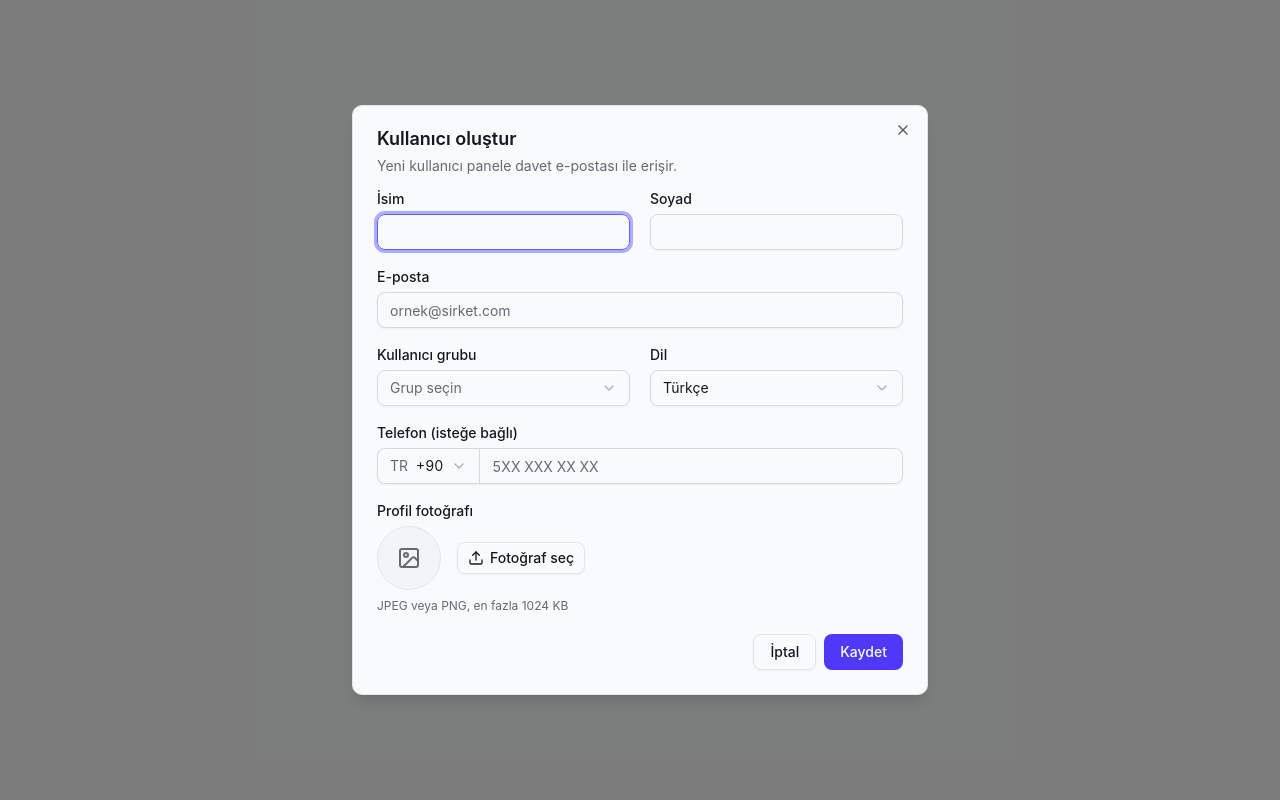
Test: CreateUserDialog › points at the email when it is already in use
The width and height of the screenshot is (1280, 800).
Type "Ada" into the field labelled "İsim" at point(504, 232), box [377,214,630,250]
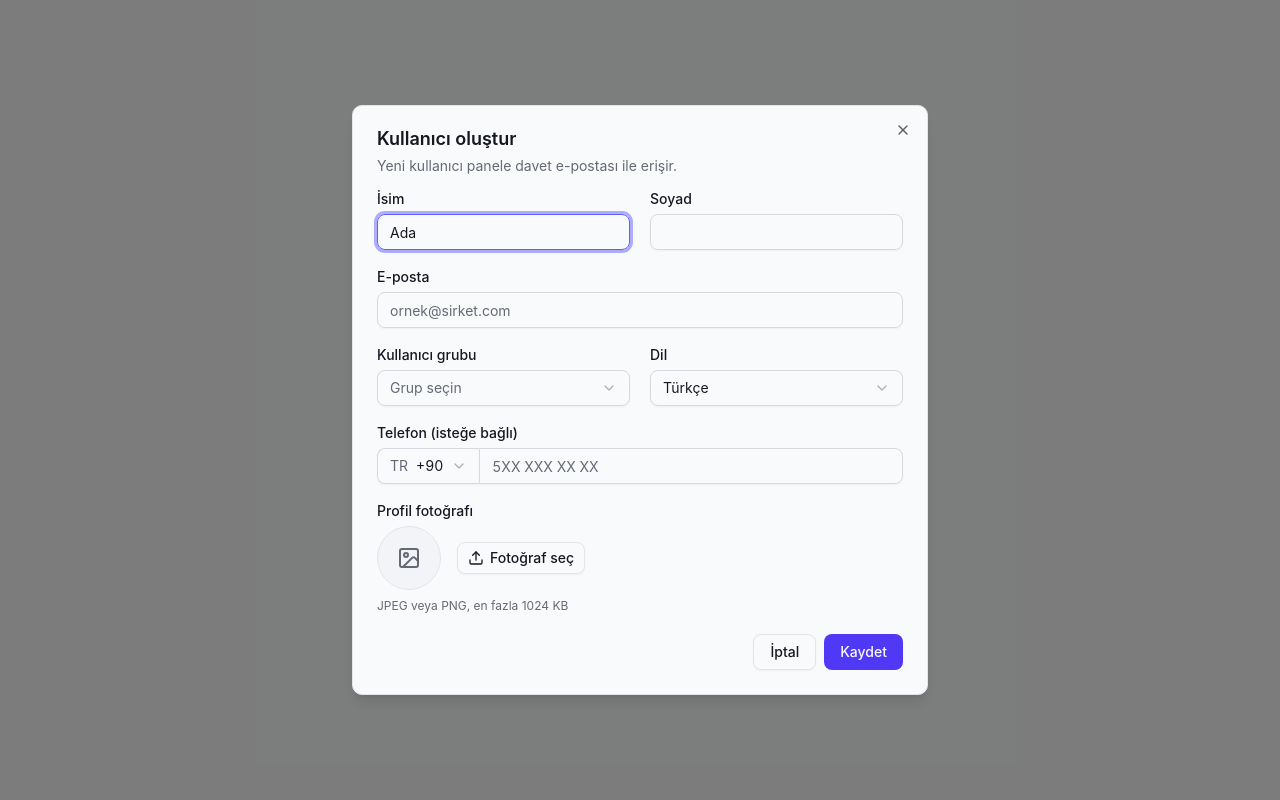
Type "Lovelace" into the field labelled "Soyad" at point(776, 232), box [650,214,903,250]
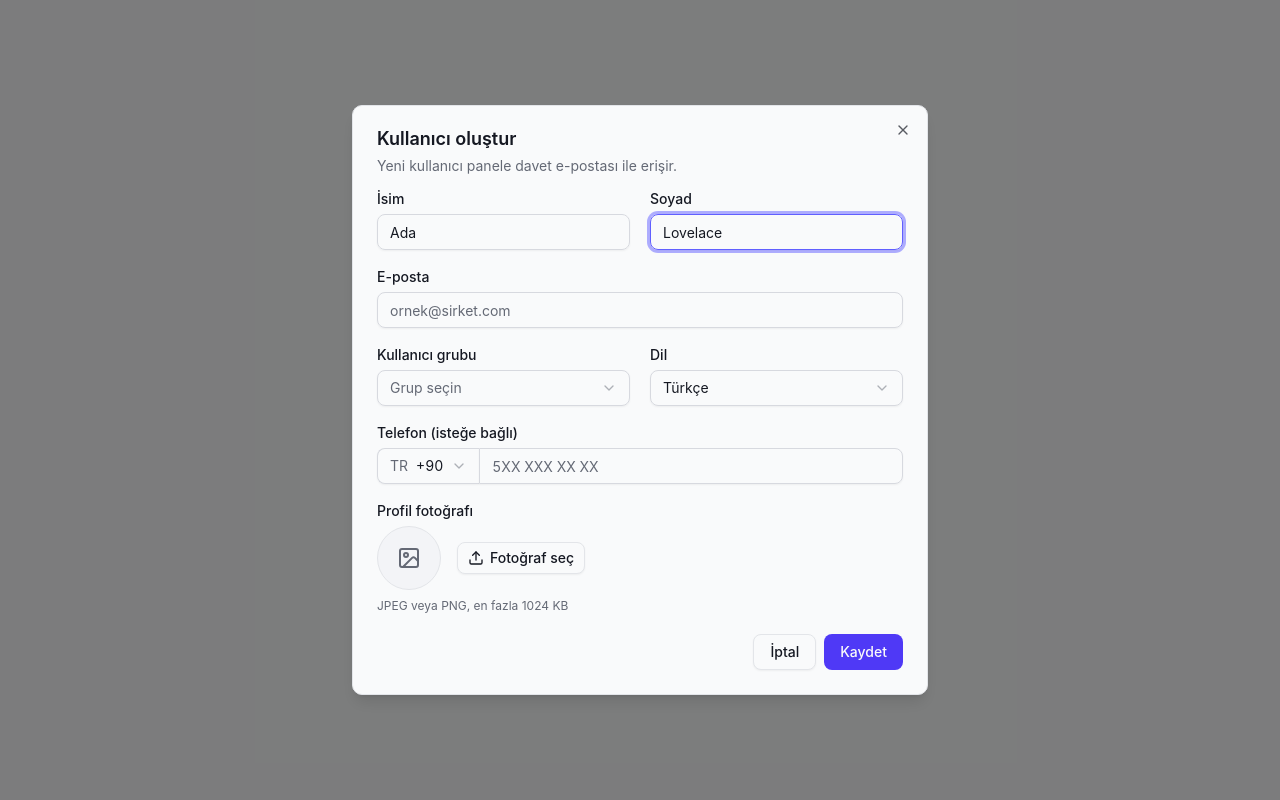
Type "ada@example.com" into the field labelled "E-posta" at point(640, 310), box [377,292,903,328]
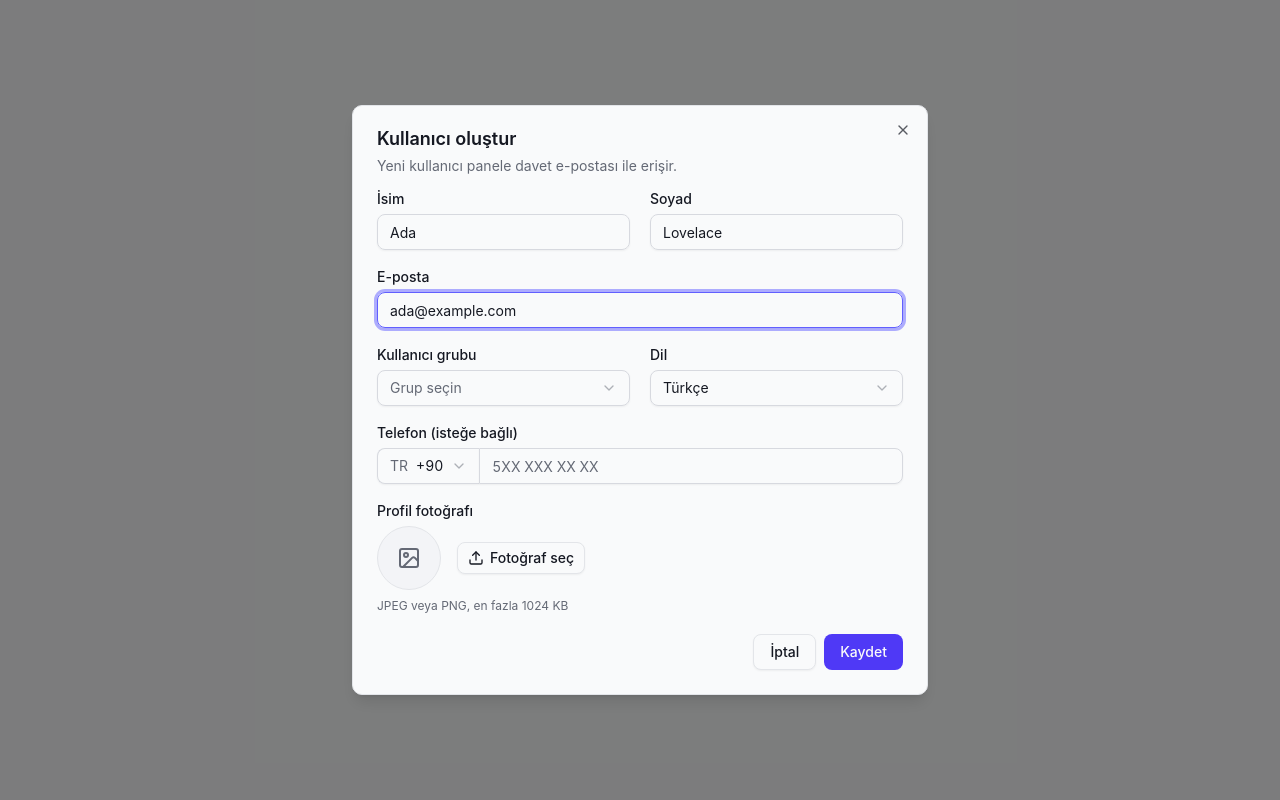
Click the dropdown named "Kullanıcı grubu" at point(504, 388), box [377,370,630,406]
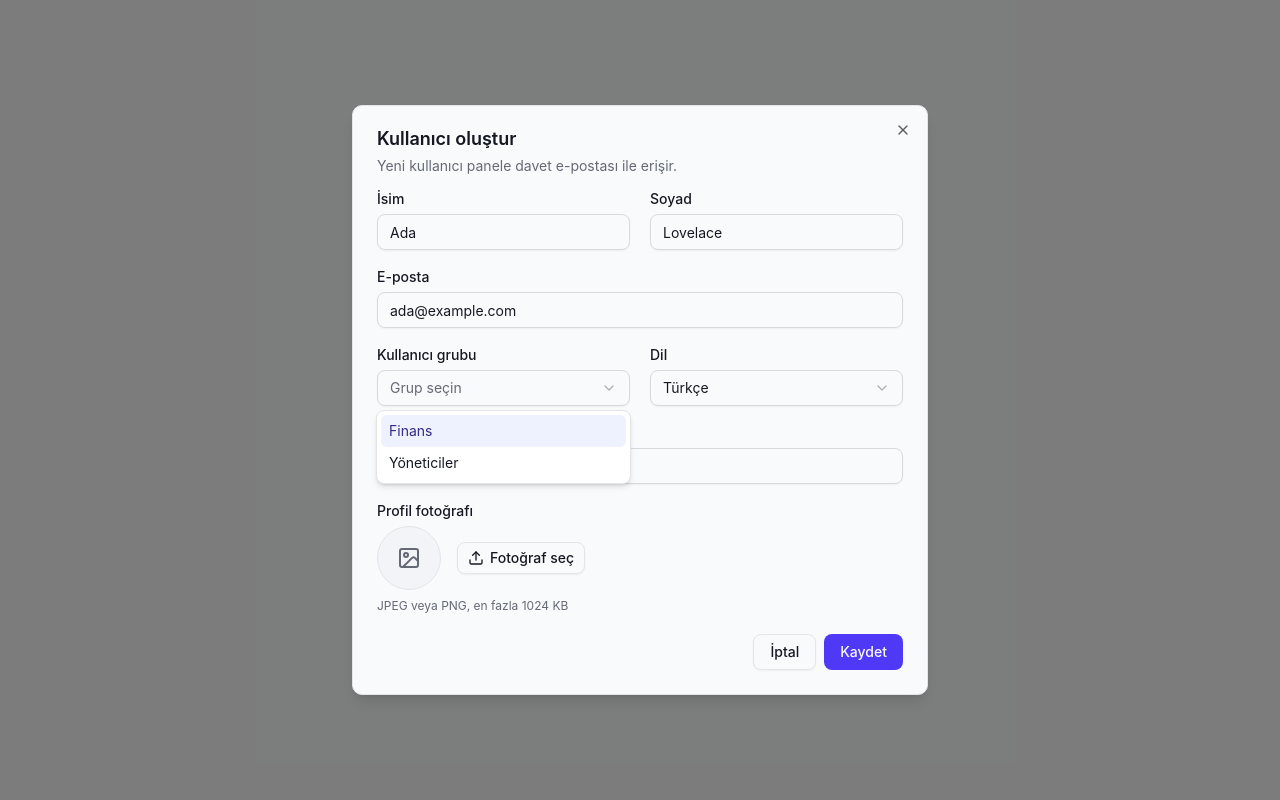
Click the option "Finans" at point(504, 431), box [381,415,626,447]
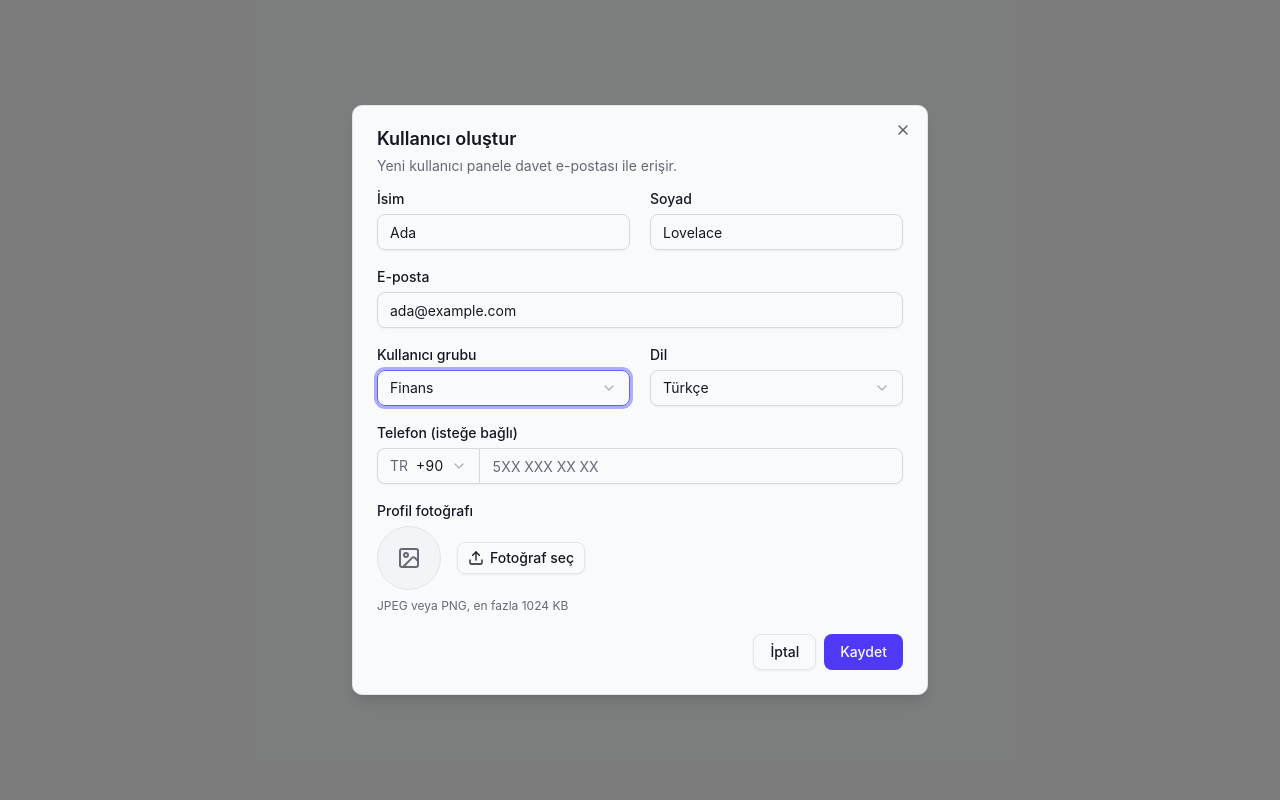
Click the button "Kaydet" at point(864, 652), box [824,634,903,670]
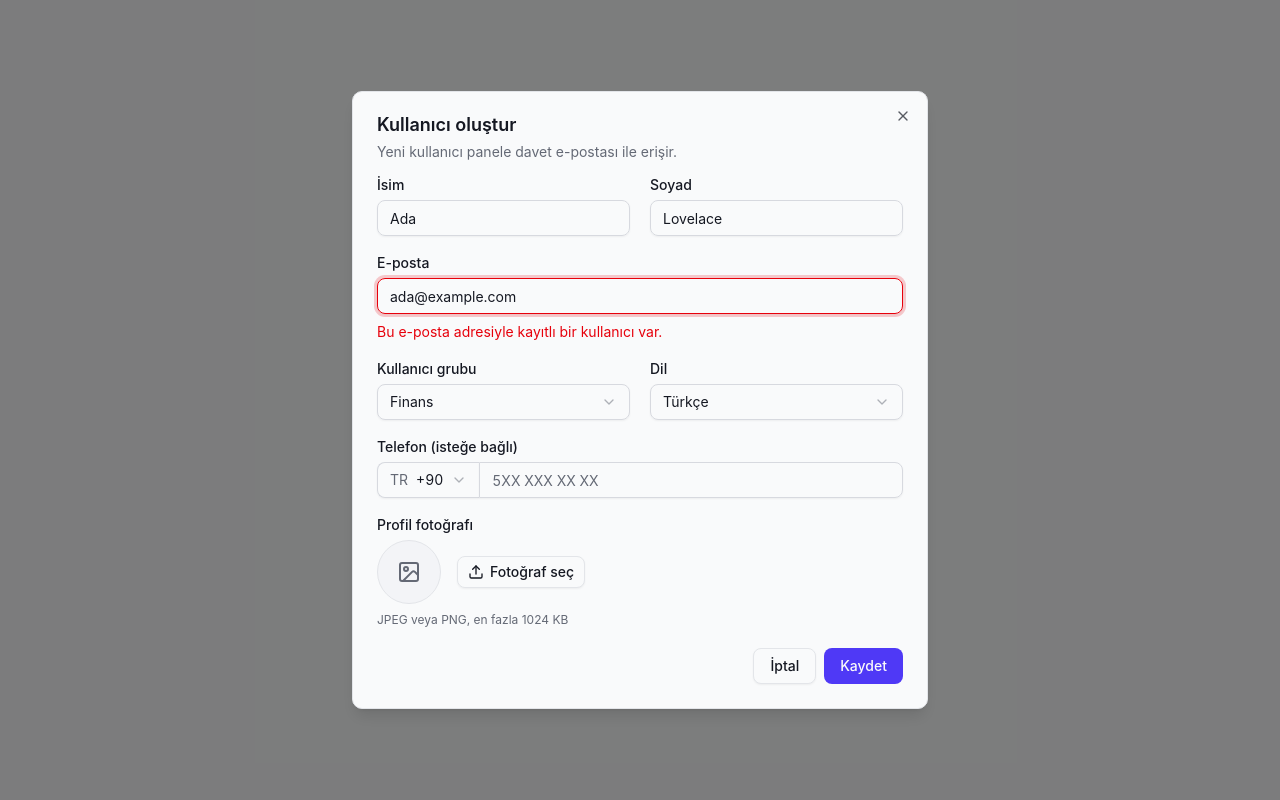
expect the text "Bu e-posta adresiyle kayıtlı bir kullanıcı var." is shown: met, box [377,323,662,340]
